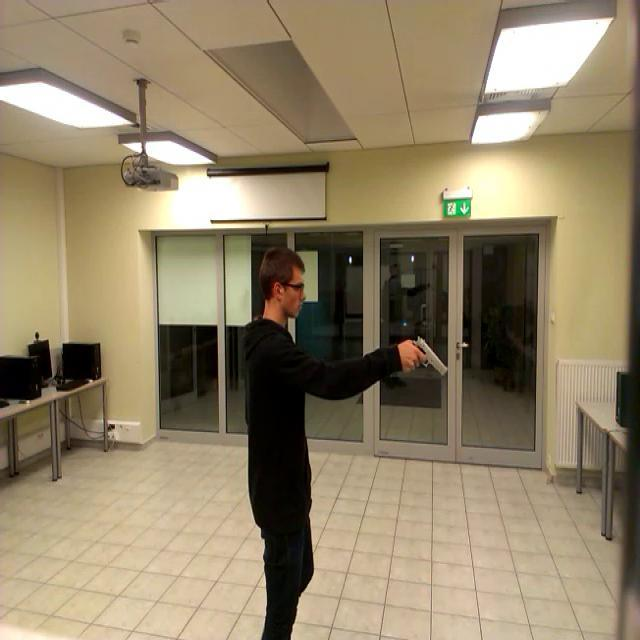Gun: (408, 334, 446, 376)
